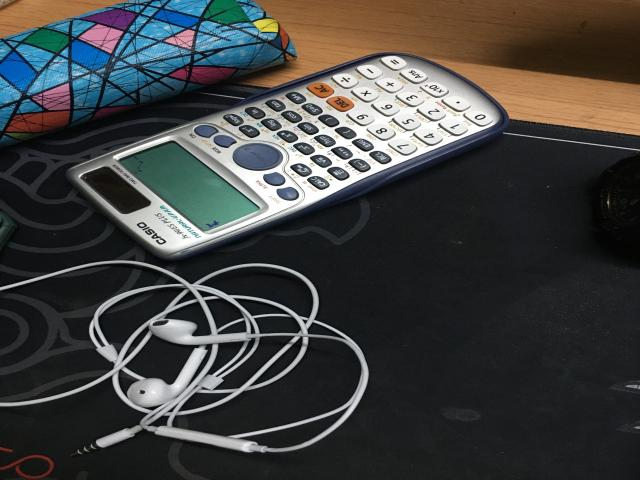Watch: (597, 152, 640, 239)
wire: (0, 261, 368, 457)
